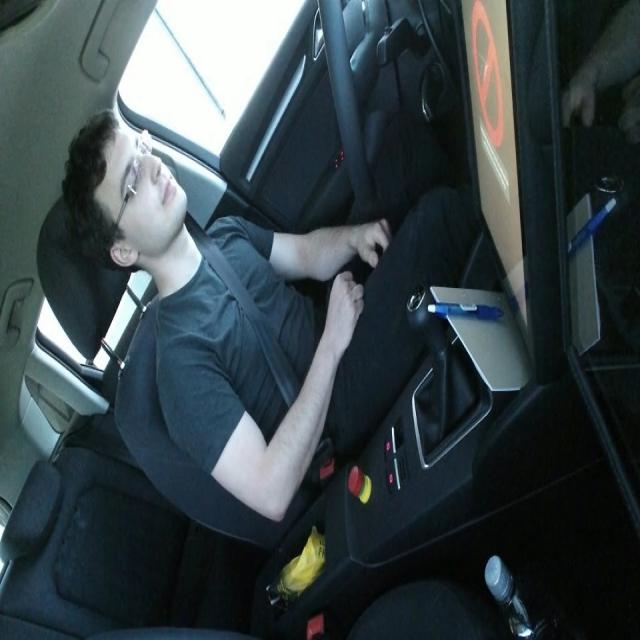pen: (566, 194, 617, 255), (427, 300, 503, 320)
